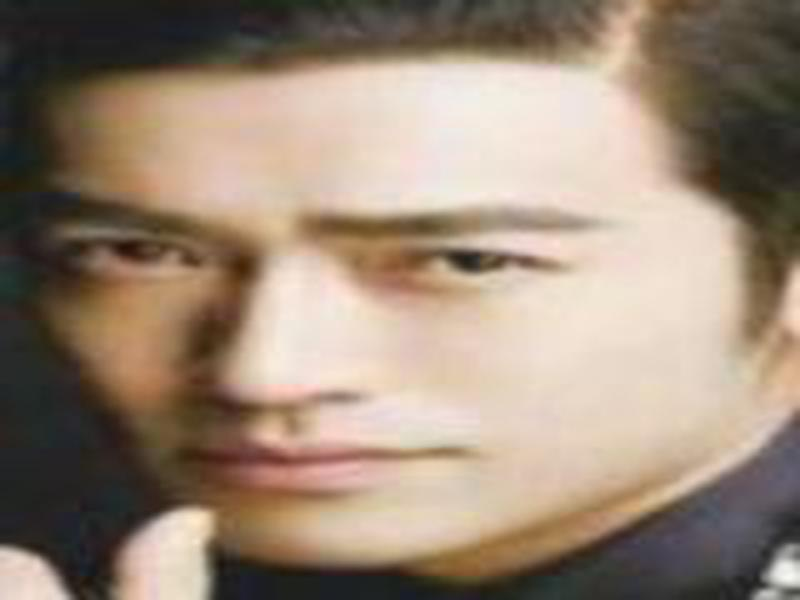without_mask: (21, 72, 763, 568)
